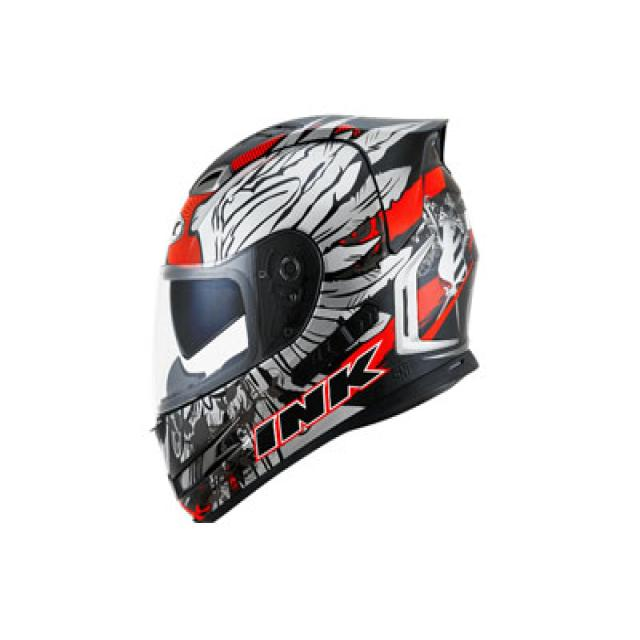Helm: (144, 108, 503, 528)
